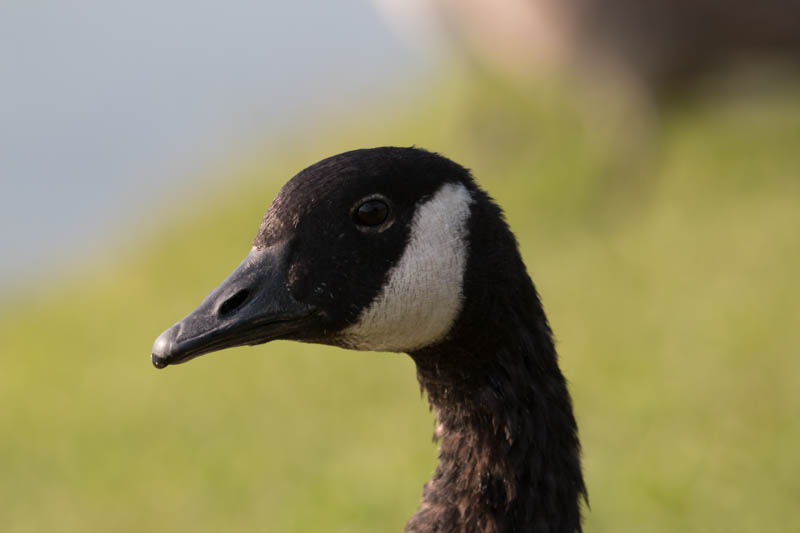goose-head: (150, 145, 517, 371)
